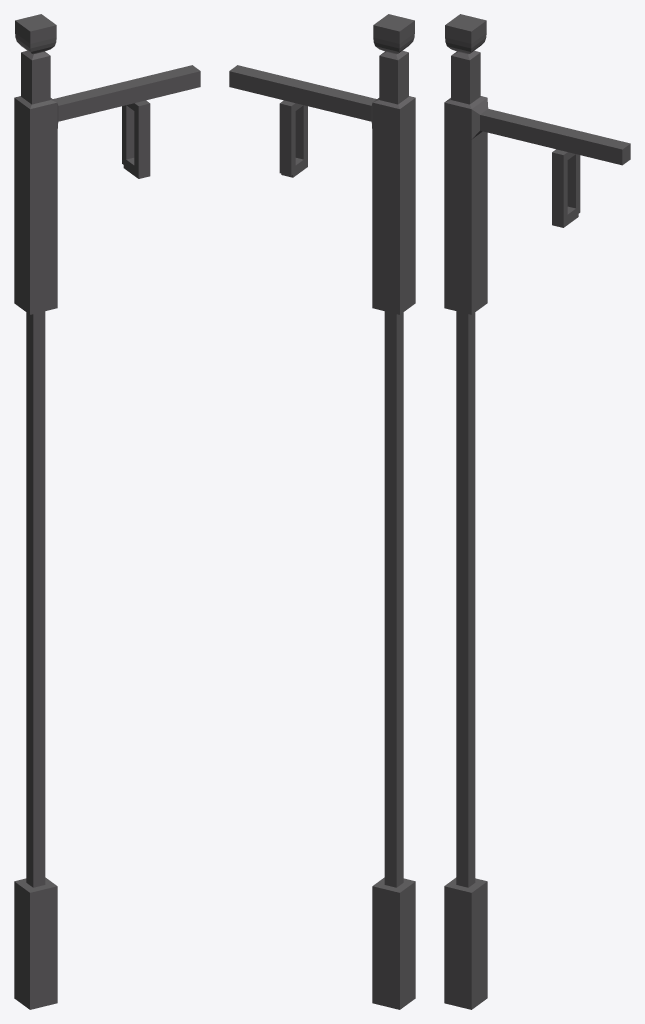
Rendered from LightStand.fbx.
3 views of the same model, side by side, from view 1: azimuth 30°, elevation 25°; view 2: azimuth 150°, elevation 25°; view 3: azimuth 330°, elevation 25° (orthographic).
Visible parts, largest first — view 1: LightStand; view 2: LightStand; view 3: LightStand.
Part boxes in pixels (box(x1,y1,x2,y2)): LightStand: box(14, 14, 200, 1009); LightStand: box(229, 14, 415, 1009); LightStand: box(444, 14, 630, 1009).
Size of the model in its own units: 97.34 by 521 by 16.22.
